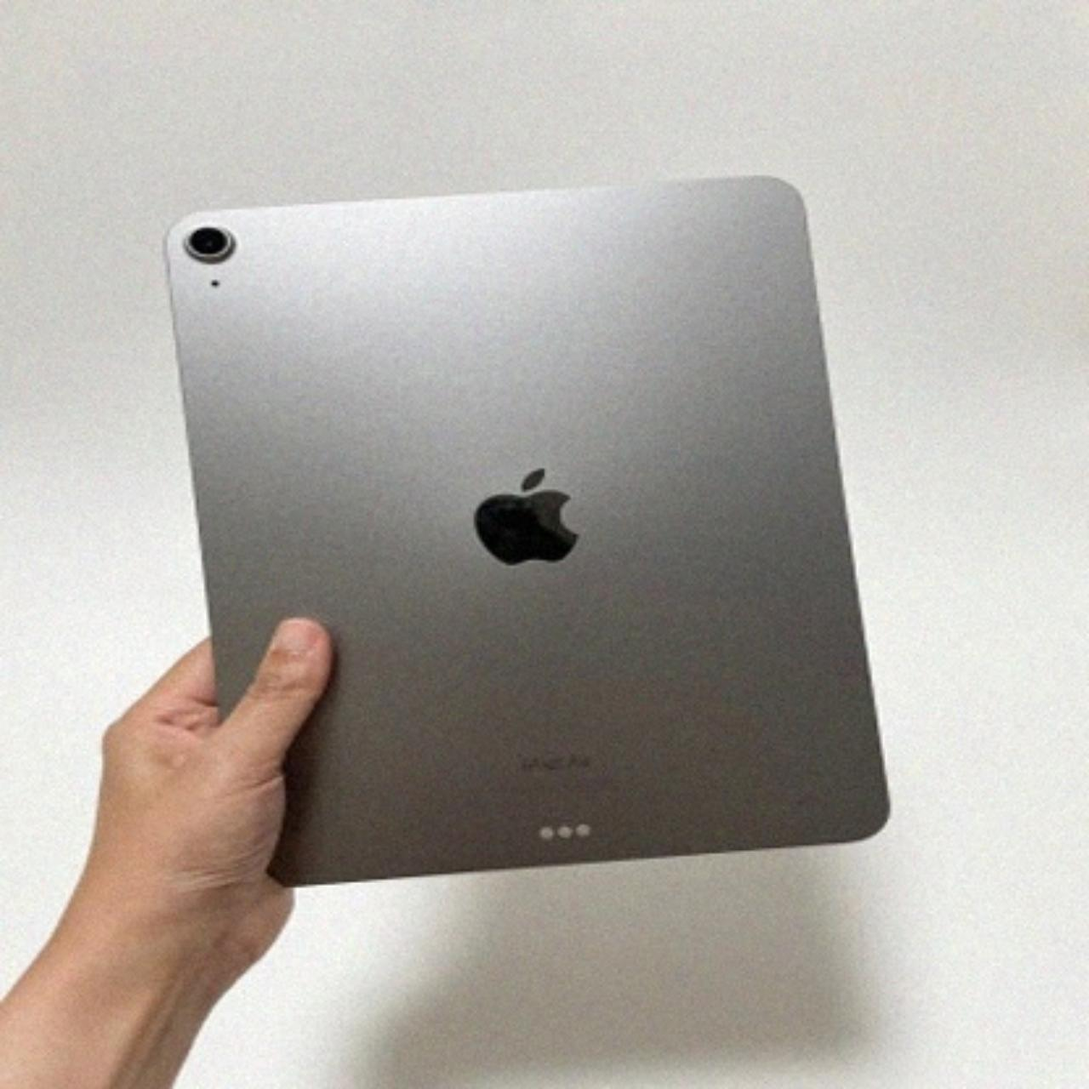Tablet_PC: (152, 163, 913, 901)
